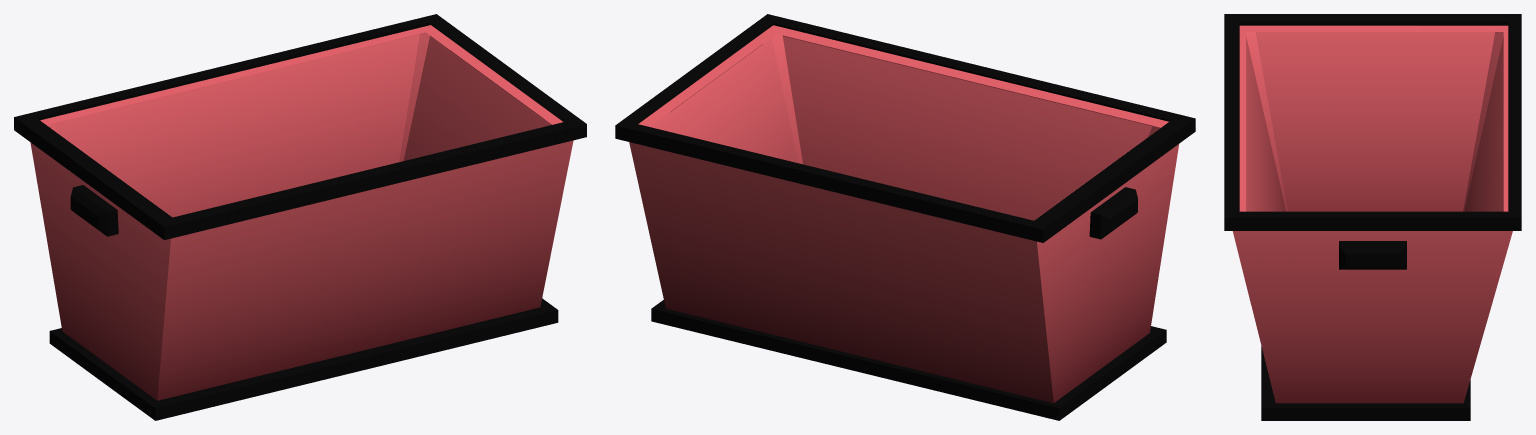
Rendered from Shopping Cart.glb.
3 renders of one model, left to right at view 1: azimuth 30°, elevation 25°; view 2: azimuth 150°, elevation 25°; view 3: azimuth 270°, elevation 25°, orthographic. The views are drawn at different scales.
Visible parts, largest first — view 1: Cube, Plane, Plane.001, Cube.001; view 2: Cube, Plane, Plane.001, Cube.001; view 3: Cube, Plane, Plane.001, Cube.001.
Part boxes in pixels (x1,y1,x2,y2): Cube: (30, 25, 573, 400); Plane: (14, 14, 586, 239); Plane.001: (49, 298, 558, 420); Cube.001: (70, 185, 118, 236); Cube: (629, 25, 1178, 403); Plane: (615, 14, 1195, 242); Plane.001: (651, 300, 1166, 420); Cube.001: (1089, 187, 1137, 239); Cube: (1232, 25, 1512, 403); Plane: (1224, 14, 1521, 230); Plane.001: (1261, 346, 1470, 420); Cube.001: (1339, 241, 1406, 269).
Bounding box in the file's own units: 3.45 × 1.6 × 2.08.
2 materials, 1 textured.
